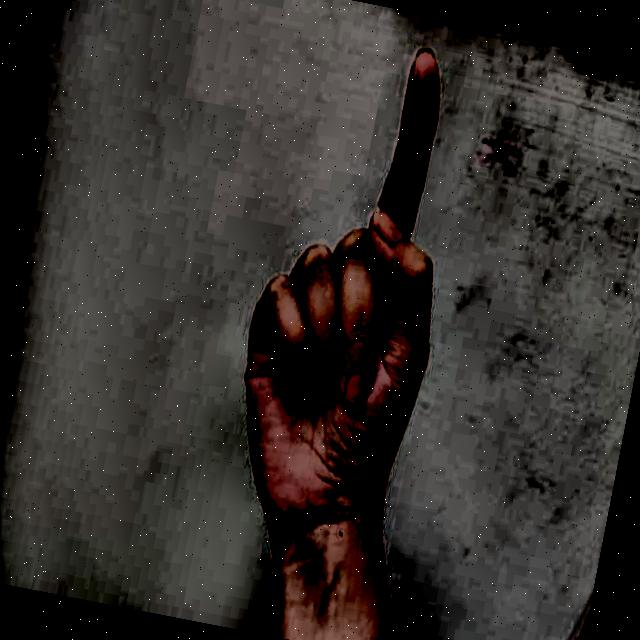U: (182, 7, 504, 576)
